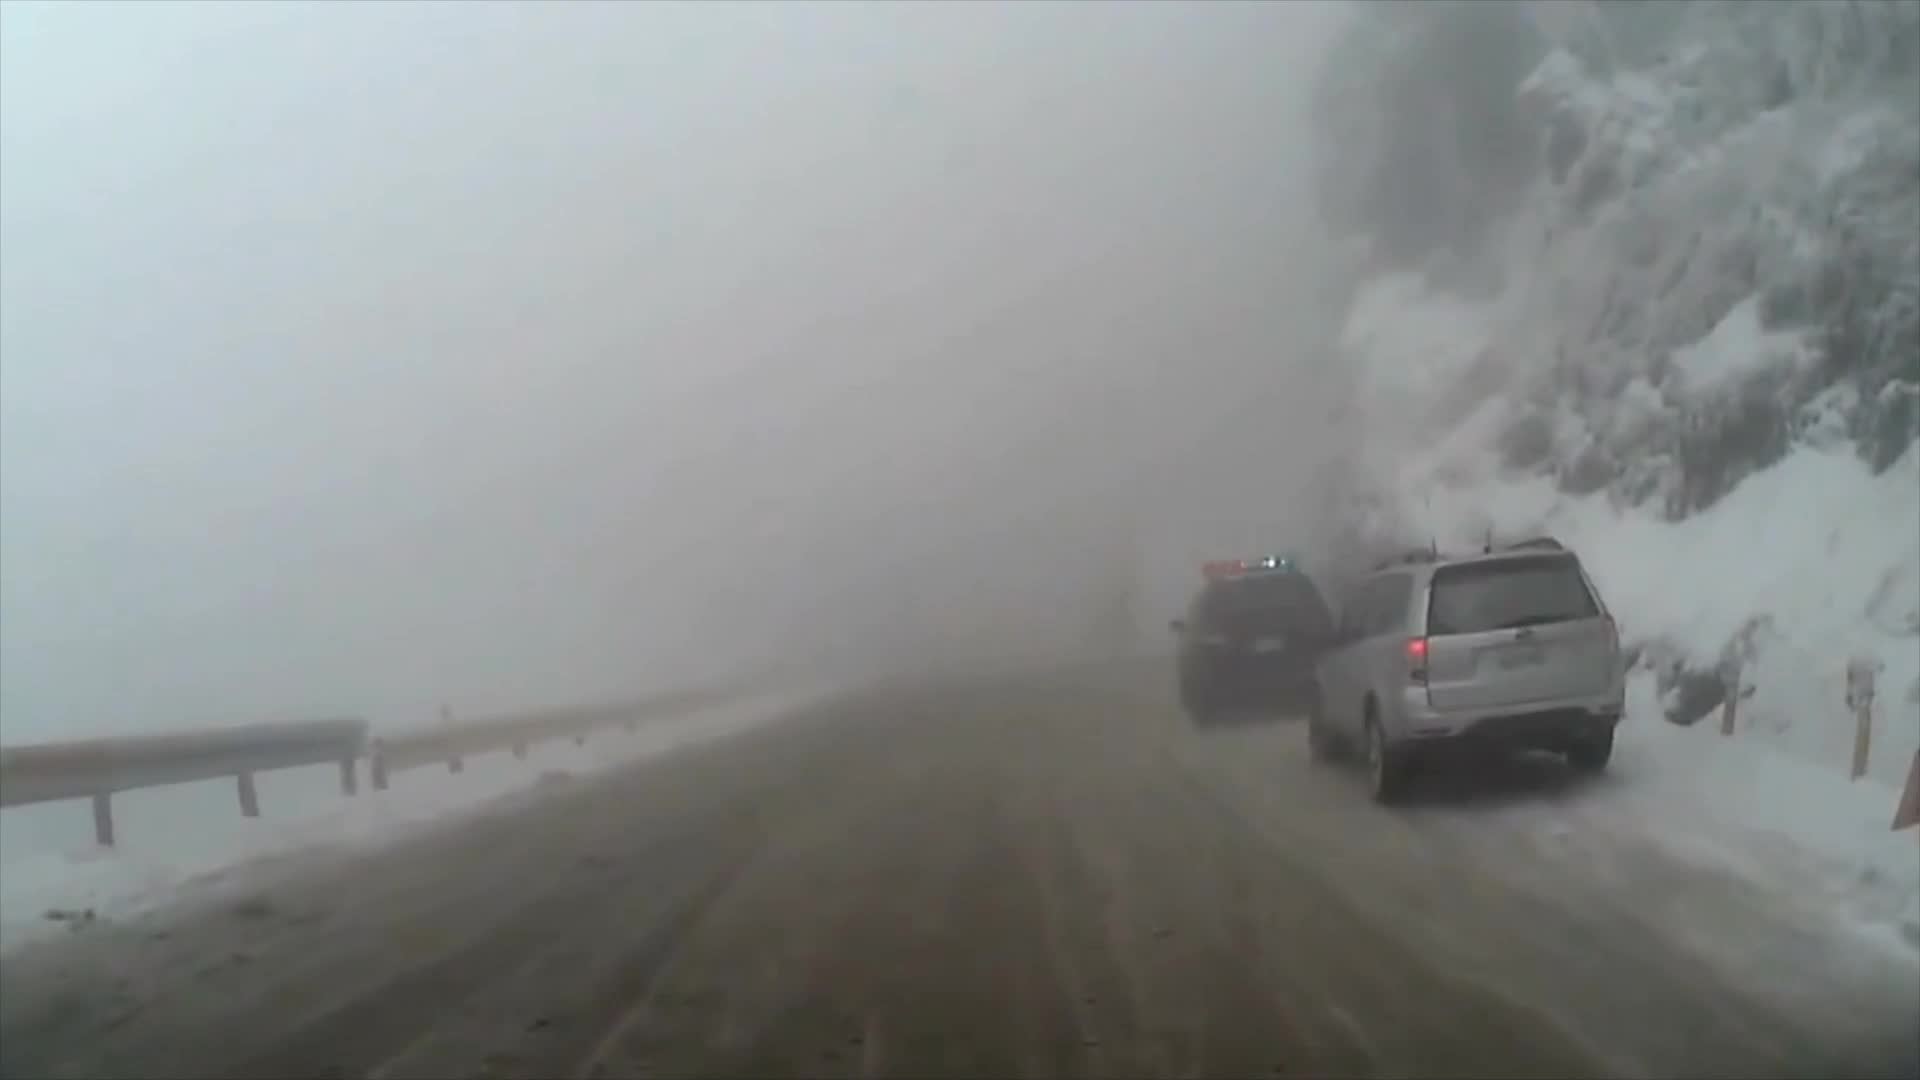vehicle: (1305, 535, 1629, 808), (1168, 553, 1342, 727)
